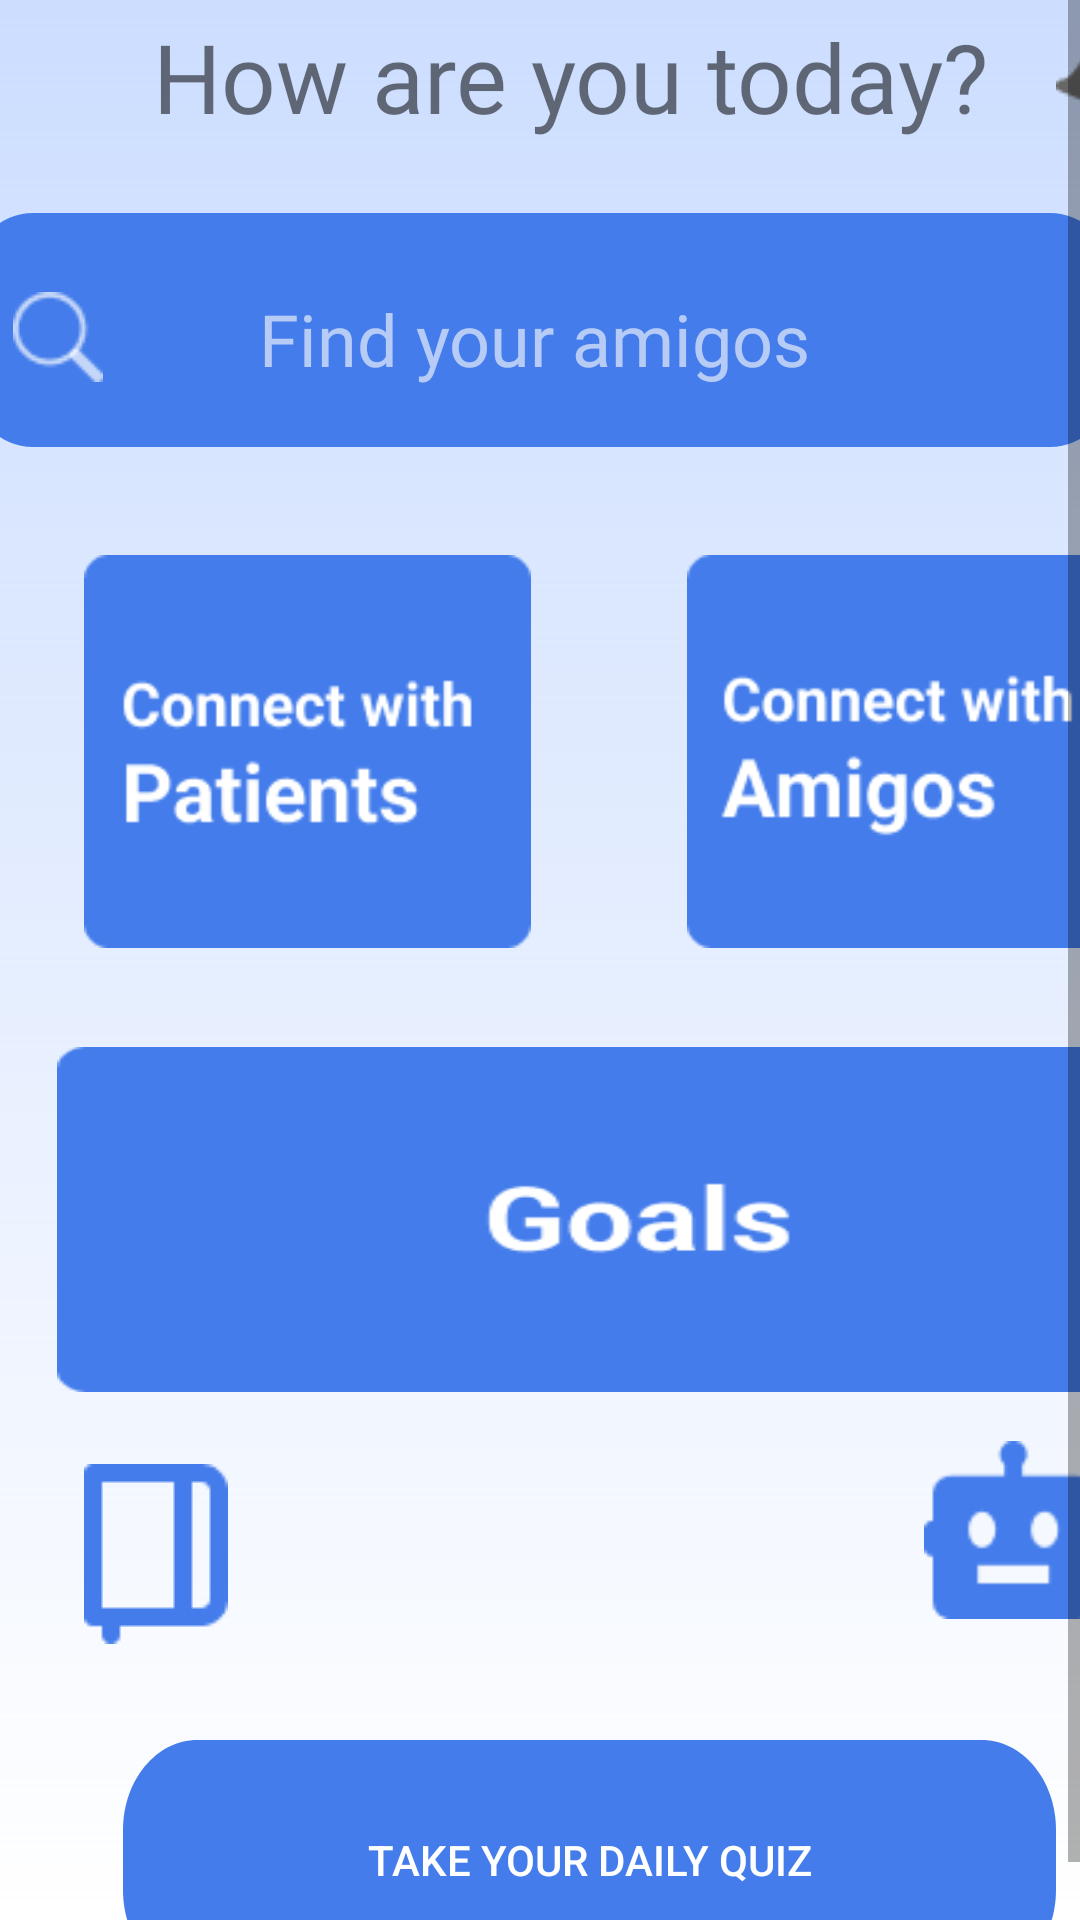

Point at icon controls on the screen. Image size 1080px x 1920px, points as (x,y).
diary: (156,1554)
